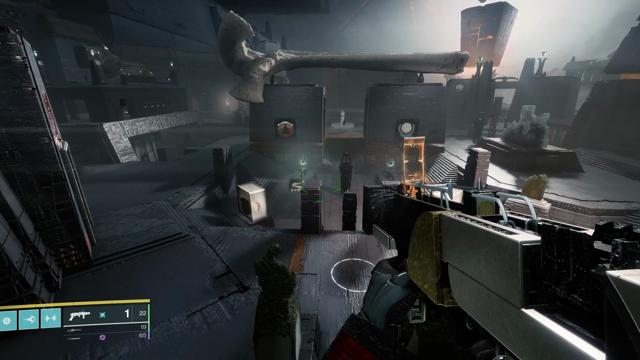pyramid: (277, 120, 294, 138)
traveler: (398, 122, 415, 138)
